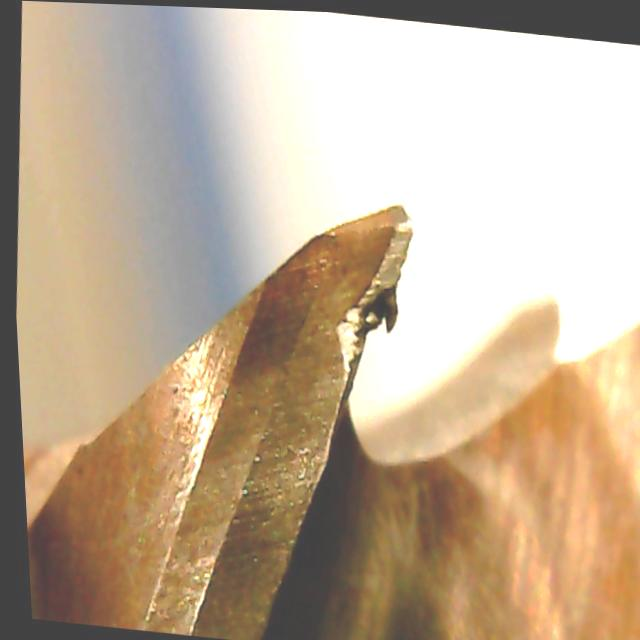Tool-wear-class-2: (205, 158, 456, 499)
